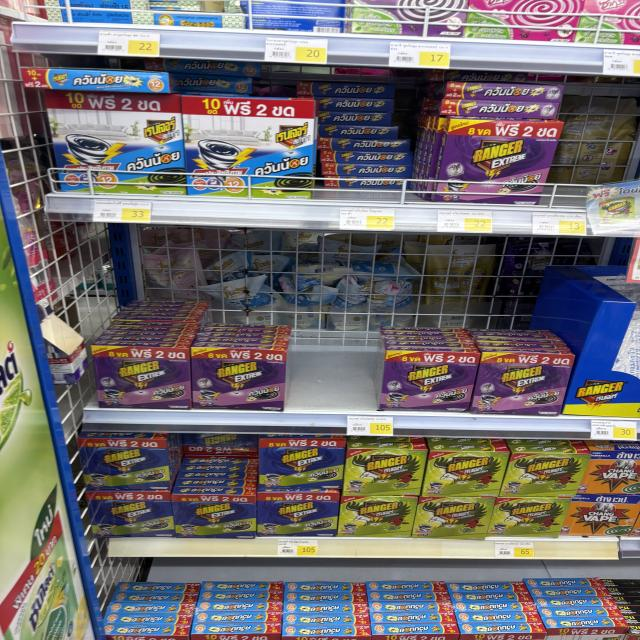empty_shelf: (84, 226, 289, 351), (396, 237, 576, 353), (287, 234, 396, 409), (315, 103, 438, 200), (543, 89, 637, 208)
